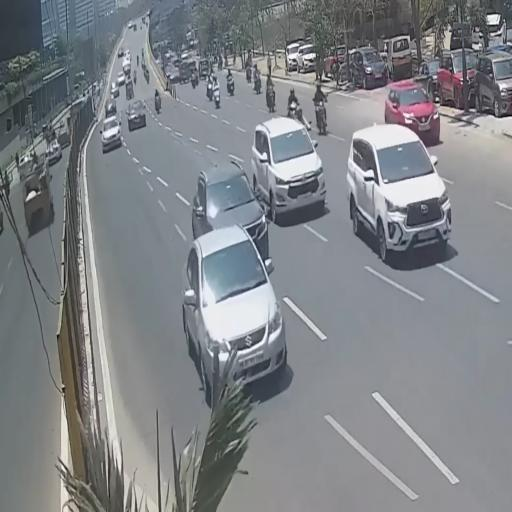小汽车: (182, 233, 290, 393), (348, 119, 454, 266), (189, 167, 271, 260), (248, 118, 326, 211), (382, 79, 443, 147), (475, 52, 512, 124), (20, 160, 54, 235), (436, 50, 477, 106), (100, 116, 124, 151), (127, 98, 147, 132)
自行车: (314, 84, 329, 137), (264, 70, 279, 116), (287, 89, 304, 125)
